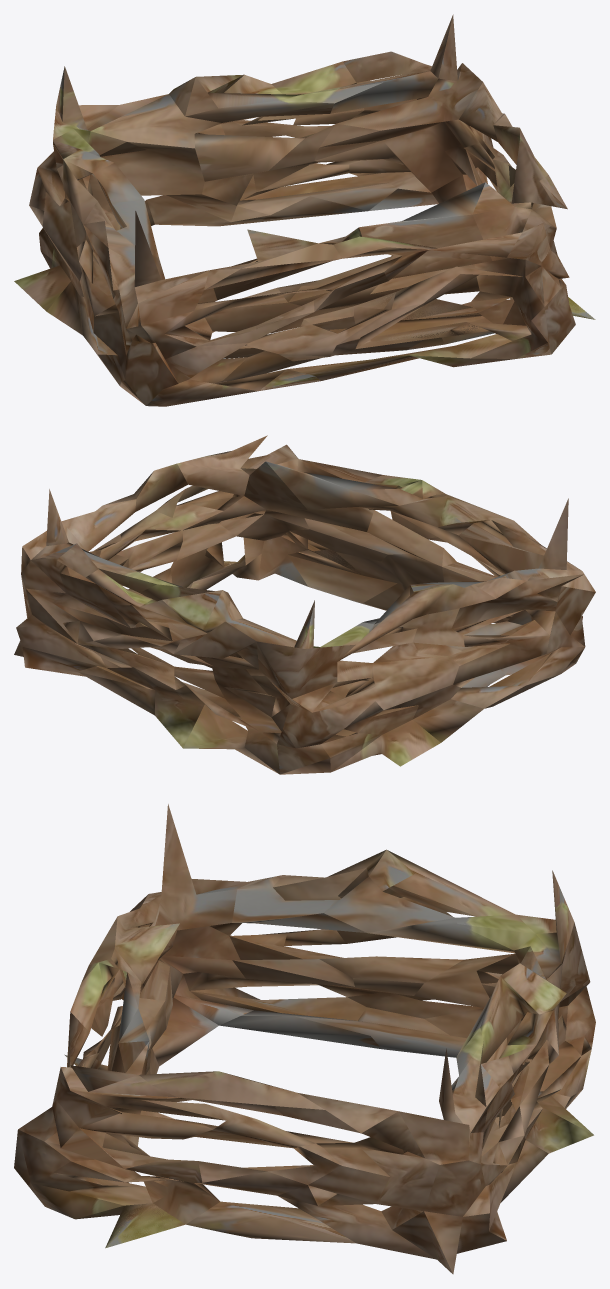
Rendered from AphidPen.glb.
3 renders of one model, top to bottom at view 1: azimuth 30°, elevation 25°; view 2: azimuth 150°, elevation 25°; view 3: azimuth 270°, elevation 25°, orthographic. The views are drawn at different scales.
Parts seen in each view (by area): view 1: AphidPen; view 2: AphidPen; view 3: AphidPen.
Boxes of the visible parts, x1,y1,x2,y2 form: AphidPen: (14,14,595,406); AphidPen: (14,435,595,774); AphidPen: (14,804,595,1274).
Size of the model in its own units: 0.9598 by 0.3628 by 0.8804.
Materials: 1 (1 with a texture image).
